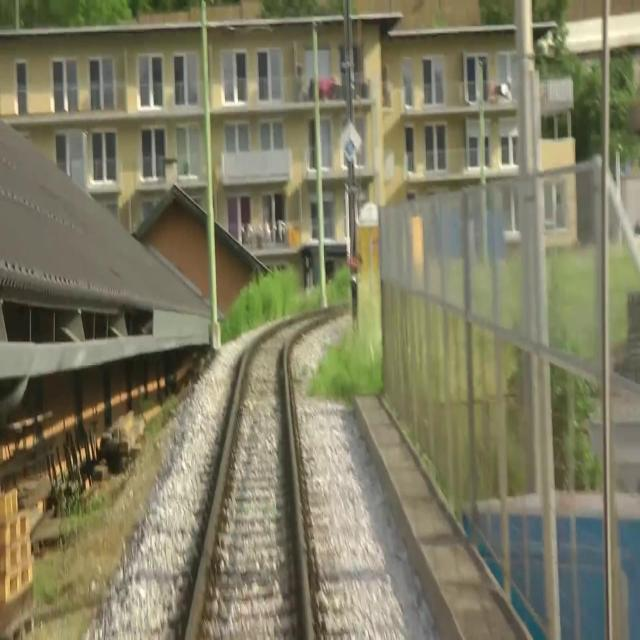rail-track: (190, 305, 345, 639)
